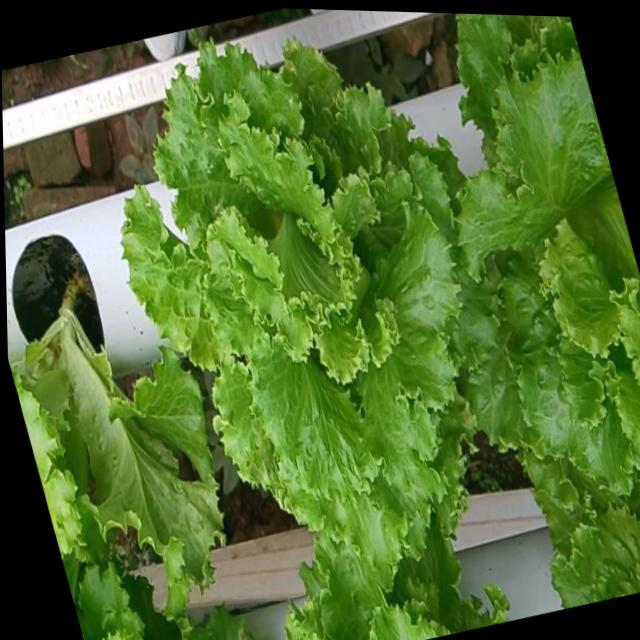Mature: (123, 44, 477, 565), (456, 44, 640, 491)
